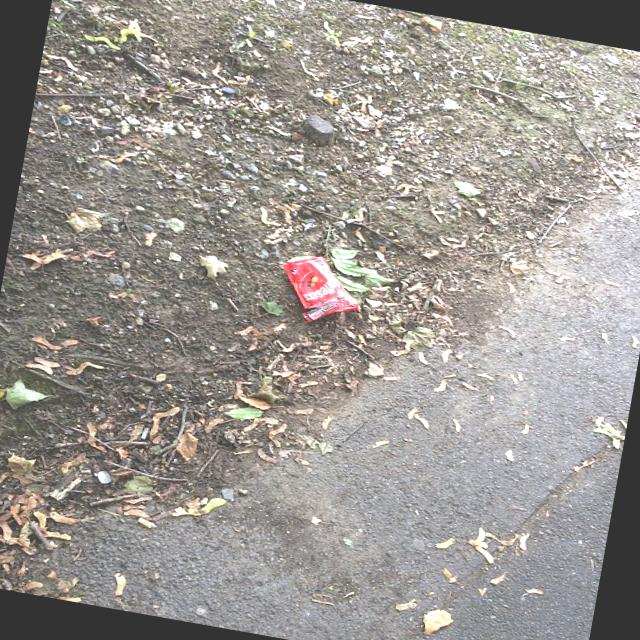Trash: (274, 248, 368, 330)
